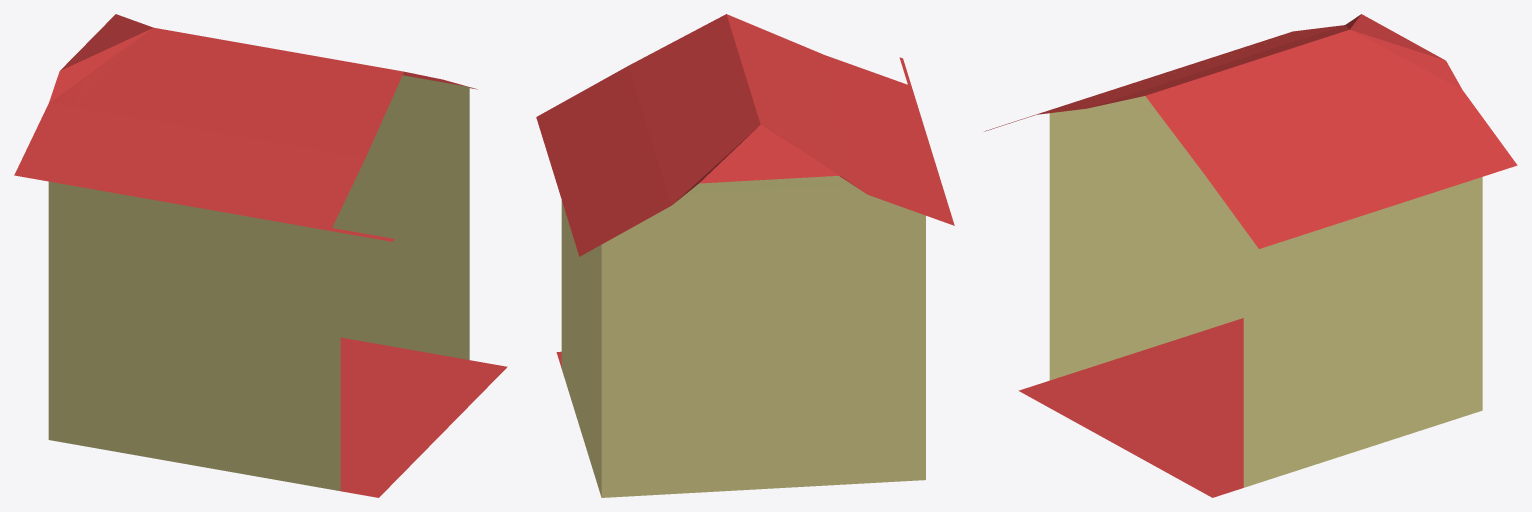
3 renders of one model, left to right at view 1: azimuth 30°, elevation 25°; view 2: azimuth 150°, elevation 25°; view 3: azimuth 270°, elevation 25°, orthographic. The views are drawn at different scales.
Bounding box in the file's own units: 9.89 × 10.66 × 7.43.
